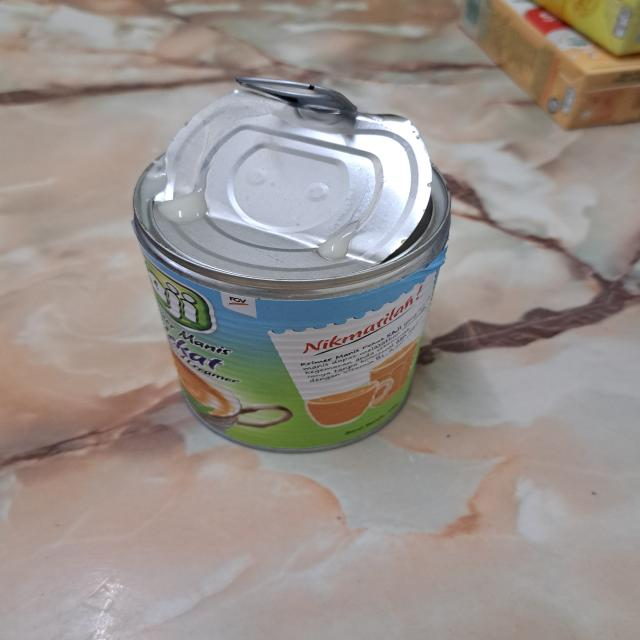can: (133, 89, 451, 454)
drink carton: (460, 0, 640, 134)
pop tab: (235, 76, 359, 118)
